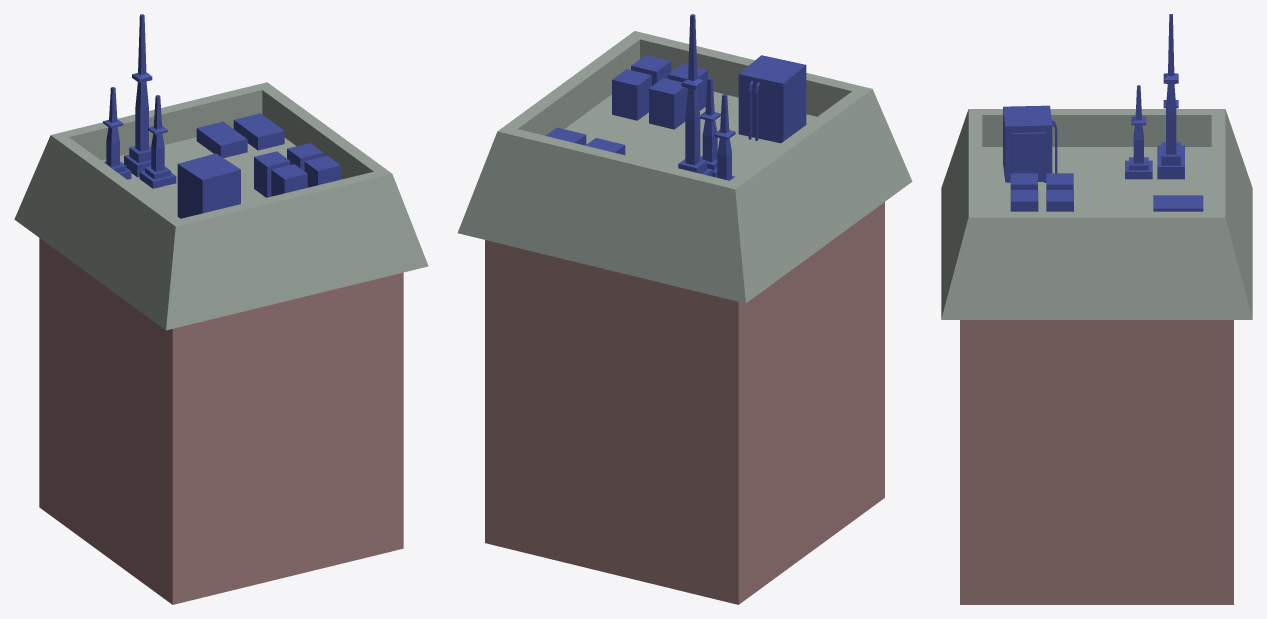
Rendered from Building_A1.fbx.
The picture shows the model from 3 angles, left to right: view 1: azimuth 30°, elevation 25°; view 2: azimuth 150°, elevation 25°; view 3: azimuth 270°, elevation 25°; orthographic projection. The views are drawn at different scales.
Parts seen in each view (by area): view 1: BuildingA8; view 2: BuildingA8; view 3: BuildingA8.
Part boxes in pixels (bbox=[...]): BuildingA8: bbox=[14, 14, 428, 604]; BuildingA8: bbox=[457, 14, 912, 604]; BuildingA8: bbox=[941, 14, 1252, 604].
Size of the model in its own units: 6.85 by 12.39 by 6.85.
